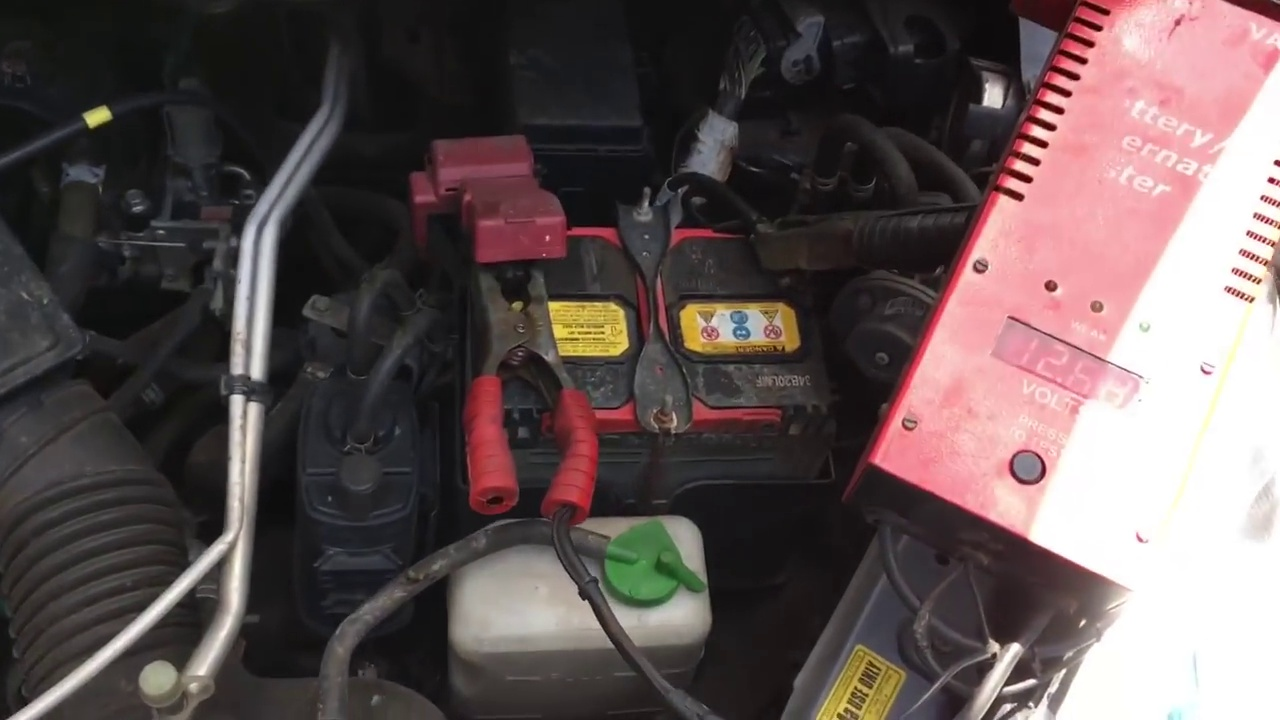battery: (417, 139, 853, 516)
